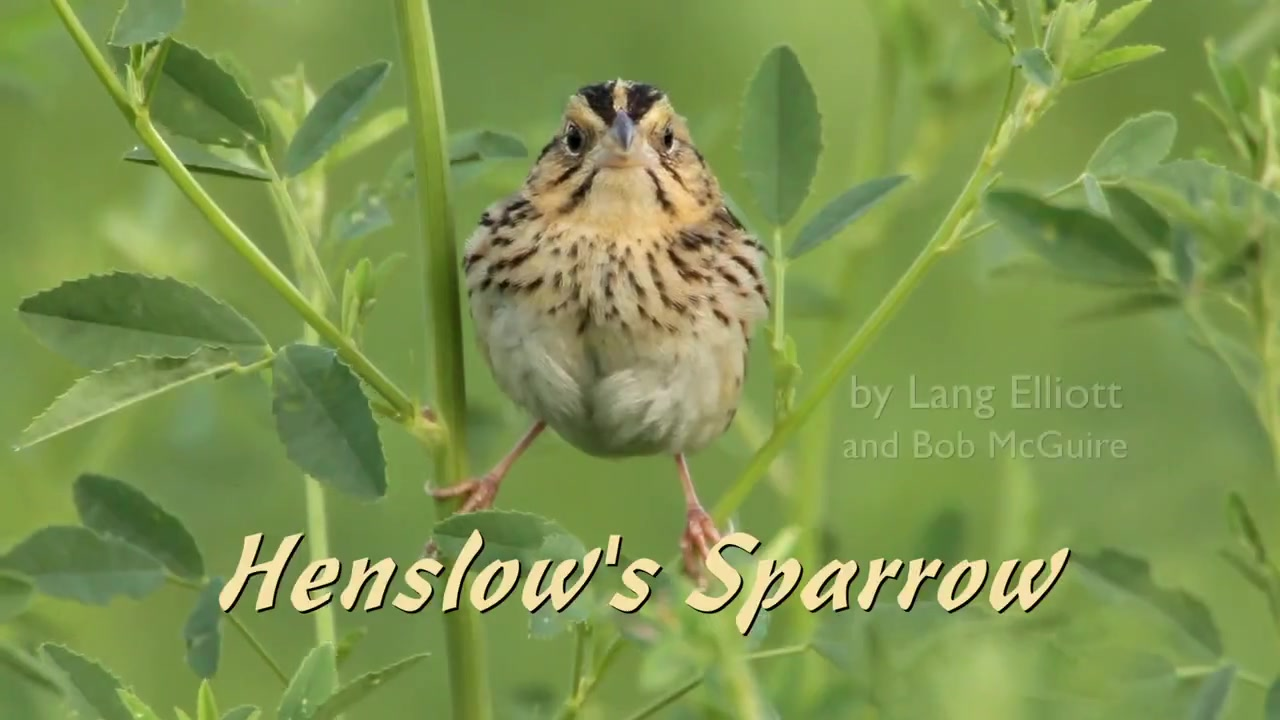bird: (424, 78, 773, 582)
